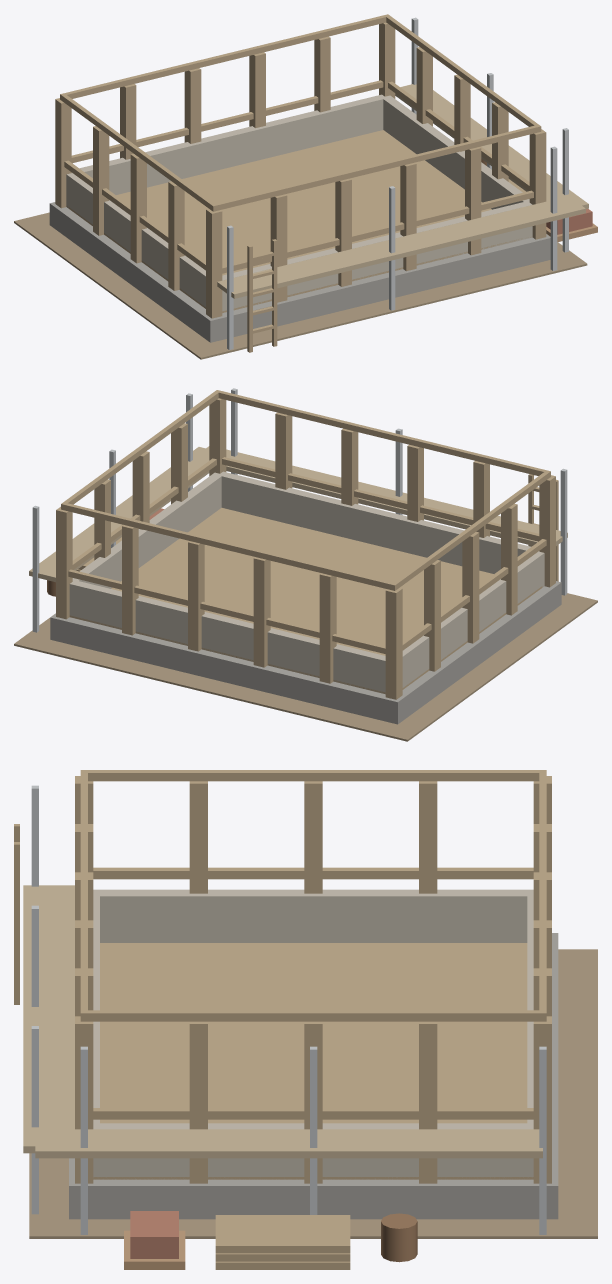
Rendered from winery_site_5.glb.
The picture shows the model from 3 angles, top to bottom: view 1: azimuth 30°, elevation 25°; view 2: azimuth 150°, elevation 25°; view 3: azimuth 270°, elevation 25°; orthographic projection. The views are drawn at different scales.
Visible parts, largest first — view 1: body; view 2: body; view 3: body.
Boxes of the visible parts, x1,y1,x2,y2 form: body: [14, 14, 597, 359]; body: [14, 388, 597, 741]; body: [14, 770, 597, 1269].
Bounding box in the file's own units: 2.46 × 0.7352 × 1.91.
